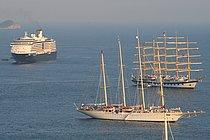Ship: (79, 79, 208, 127), (7, 24, 67, 65)
